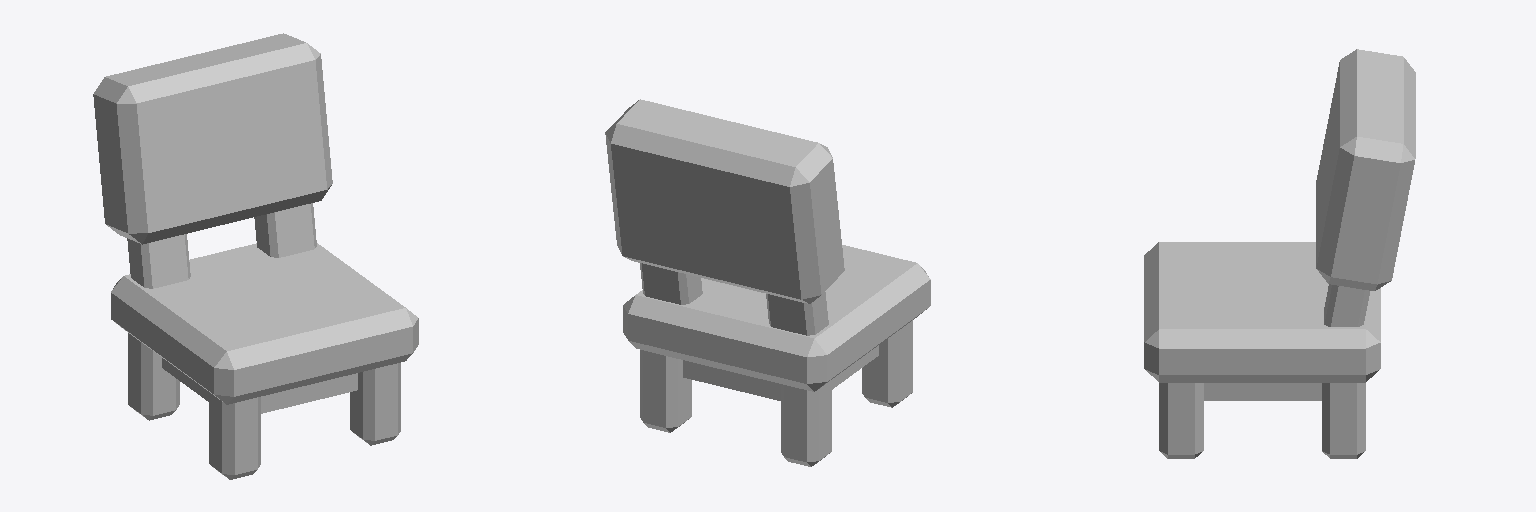
File: chair.obj
The picture shows the model from 3 angles: view 1: azimuth 30°, elevation 25°; view 2: azimuth 150°, elevation 25°; view 3: azimuth 270°, elevation 25°; orthographic projection.
Parts seen in each view (by area): view 1: chair; view 2: chair; view 3: chair.
Part boxes in pixels (left/top/right/bottom): chair: left=93, top=33, right=418, bottom=479; chair: left=605, top=99, right=930, bottom=466; chair: left=1144, top=49, right=1415, bottom=458.
Size of the model in its own units: 0.8 by 1.22 by 0.918.